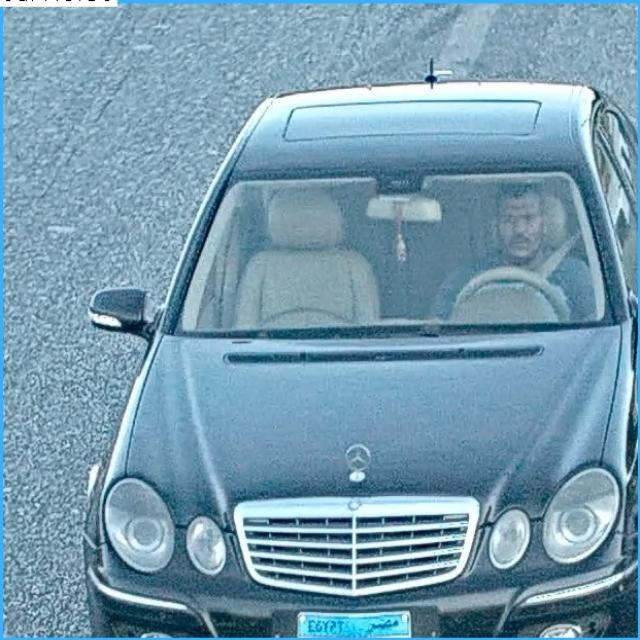windshield: (182, 166, 612, 328)
